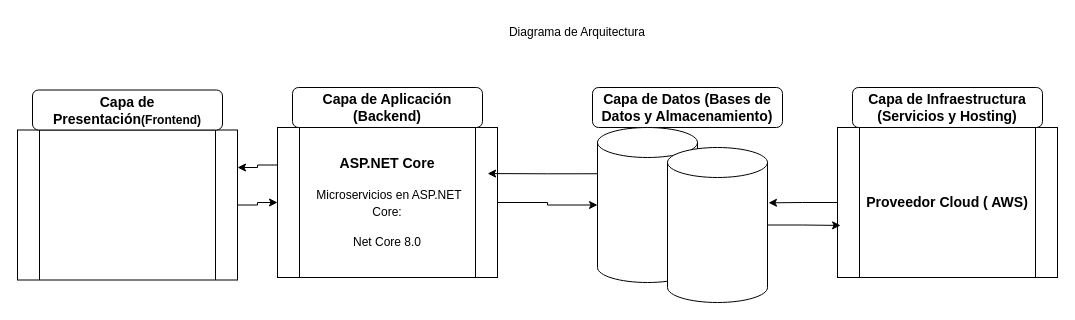
Some shapes in this 1075 by 320 pixel diagram are drawn without their labels. Each missing label, with the box of its shape:
asp .net Net Core 8.0: (16, 129, 238, 280)
Sql server: (666, 146, 768, 302)
